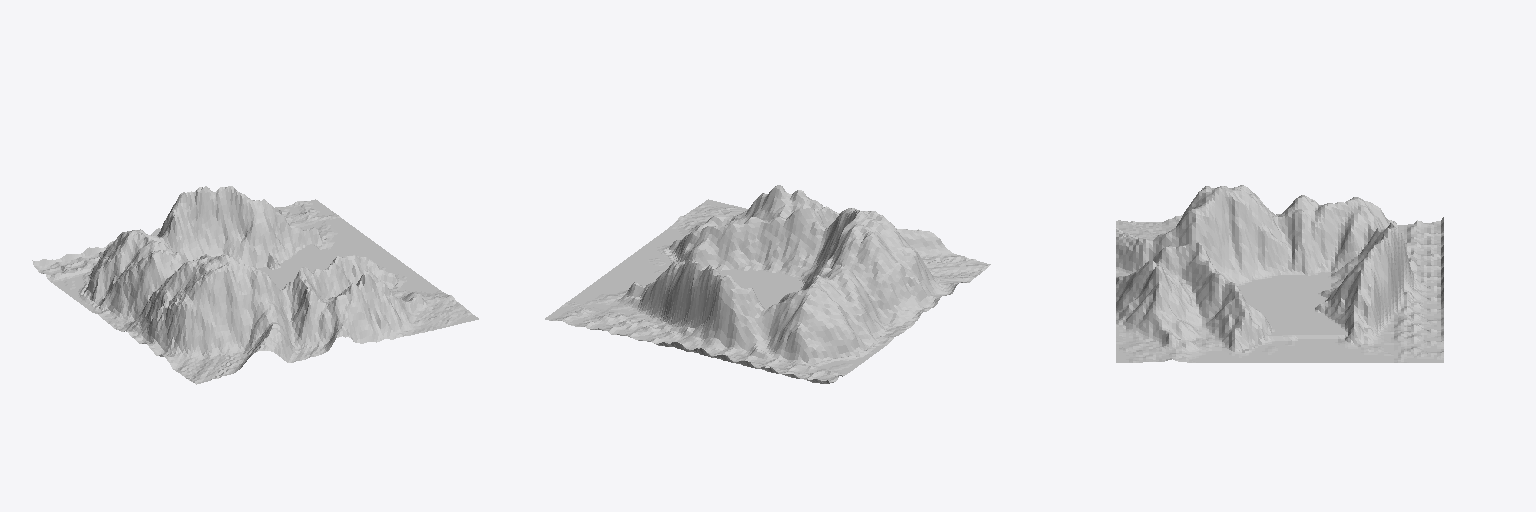
Rendered from Ground.obj.
The picture shows the model from 3 angles: view 1: azimuth 30°, elevation 25°; view 2: azimuth 150°, elevation 25°; view 3: azimuth 270°, elevation 25°; orthographic projection.
Parts seen in each view (by area): view 1: Ground; view 2: Ground; view 3: Ground.
Boxes of the visible parts, x1,y1,x2,y2 form: Ground: [32, 186, 478, 384]; Ground: [545, 185, 990, 383]; Ground: [1116, 185, 1443, 362].
Size of the model in its own units: 100 by 25.5 by 100.